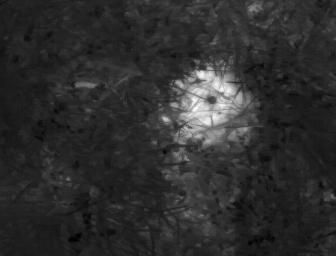landmine: (187, 79, 237, 121)
